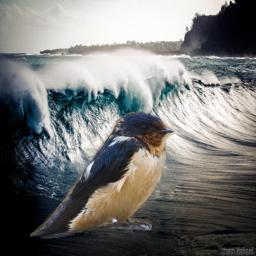Swallow: (30, 110, 176, 239)
